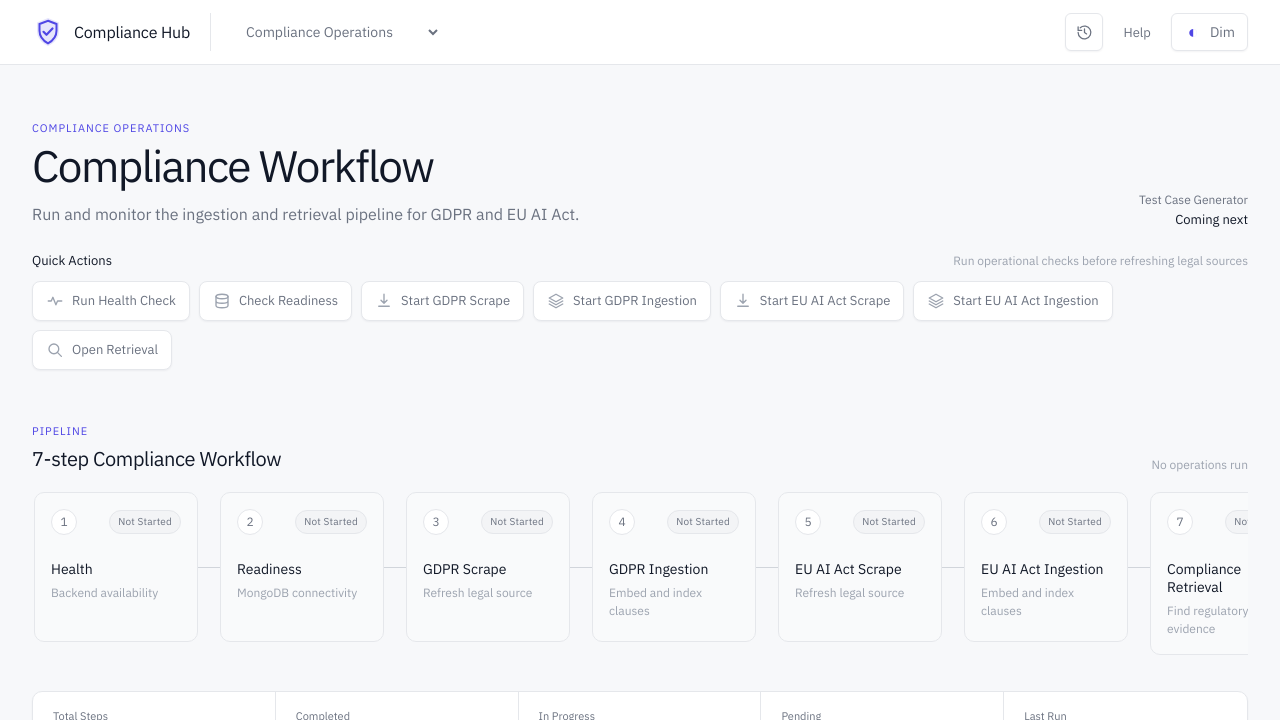
Test: Activity Log screen › opens from the header, shows seven-day activity, and opens row details
Click the button named "Activity Log" at x=1084, y=32, box [1066, 13, 1104, 51]
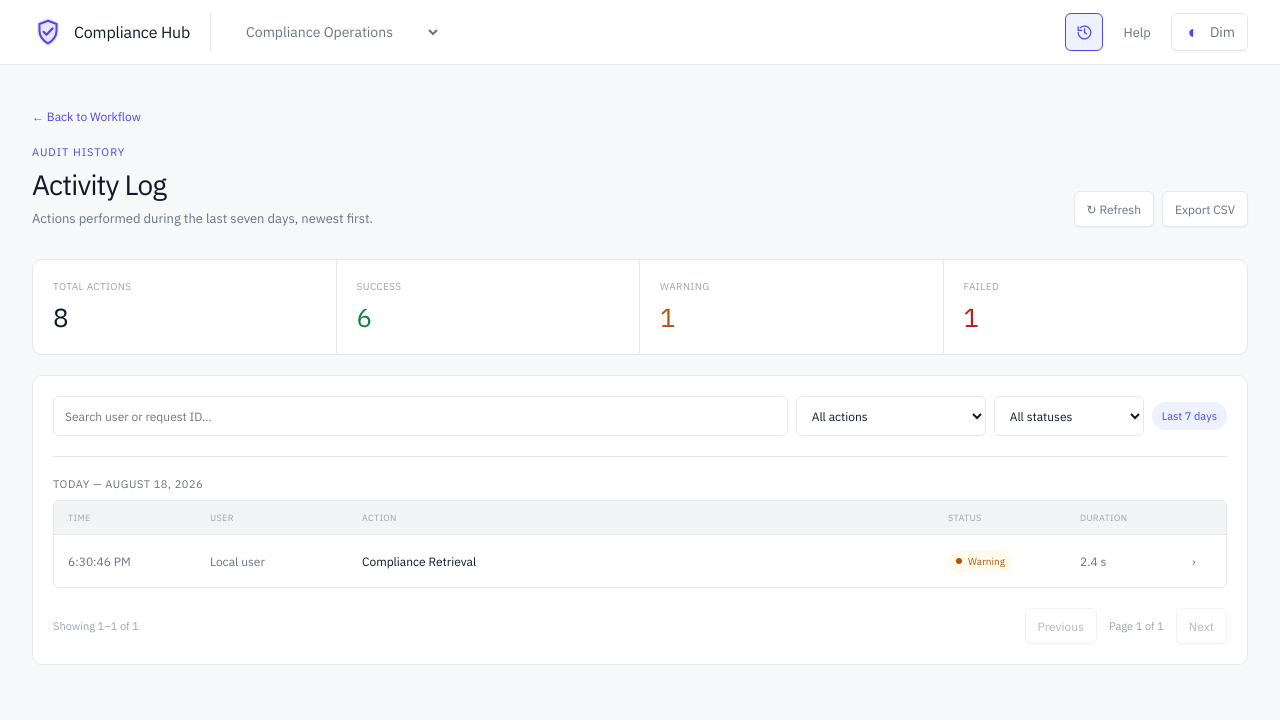
Result: the heading "Activity Log" is shown at [32, 166, 166, 203]
Result: the button with aria-label "View Compliance Retrieval details" is shown
Result: the text "Last 7 days" is shown at [1152, 402, 1227, 430]
Click the button with aria-label "View Compliance Retrieval details" at x=99, y=561, box [54, 535, 1226, 587]
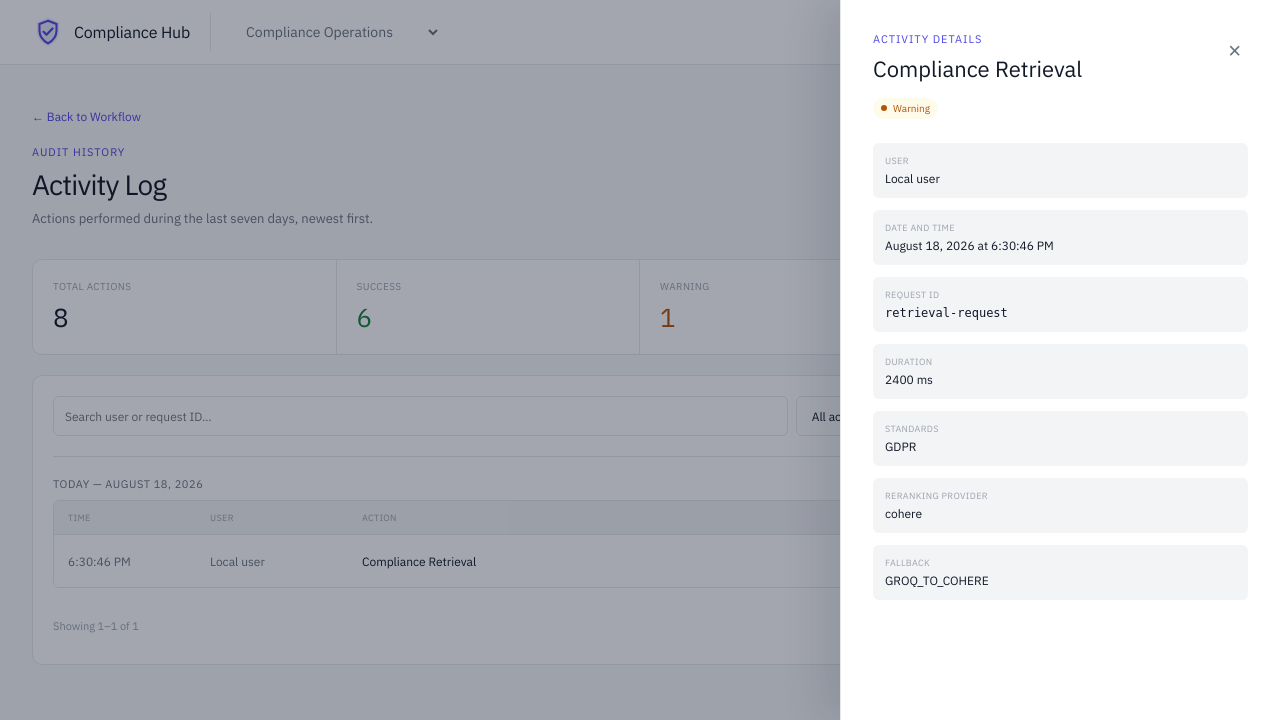
Result: the dialog "Compliance Retrieval" is shown at [840, 0, 1279, 719]
Result: the text "retrieval-request" is shown at [885, 306, 1008, 320]
Result: the text "GROQ_TO_COHERE" is shown at [885, 572, 989, 588]
